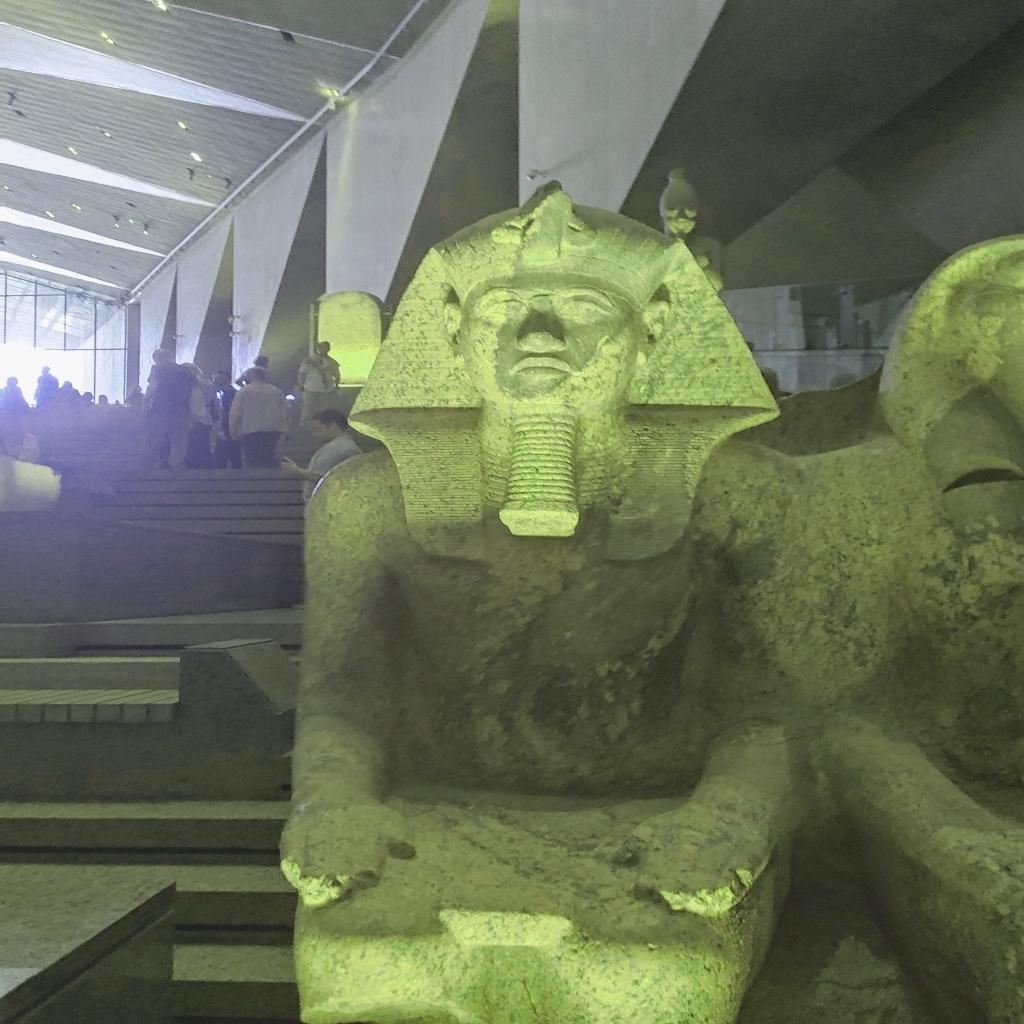Statue of Amenhotep III and God Re-Horakhty: (280, 179, 1024, 1024)
